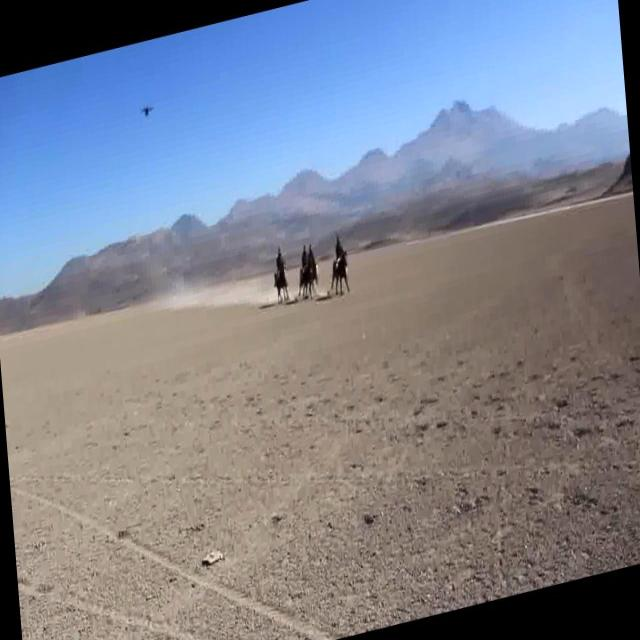drone: (137, 95, 157, 122)
